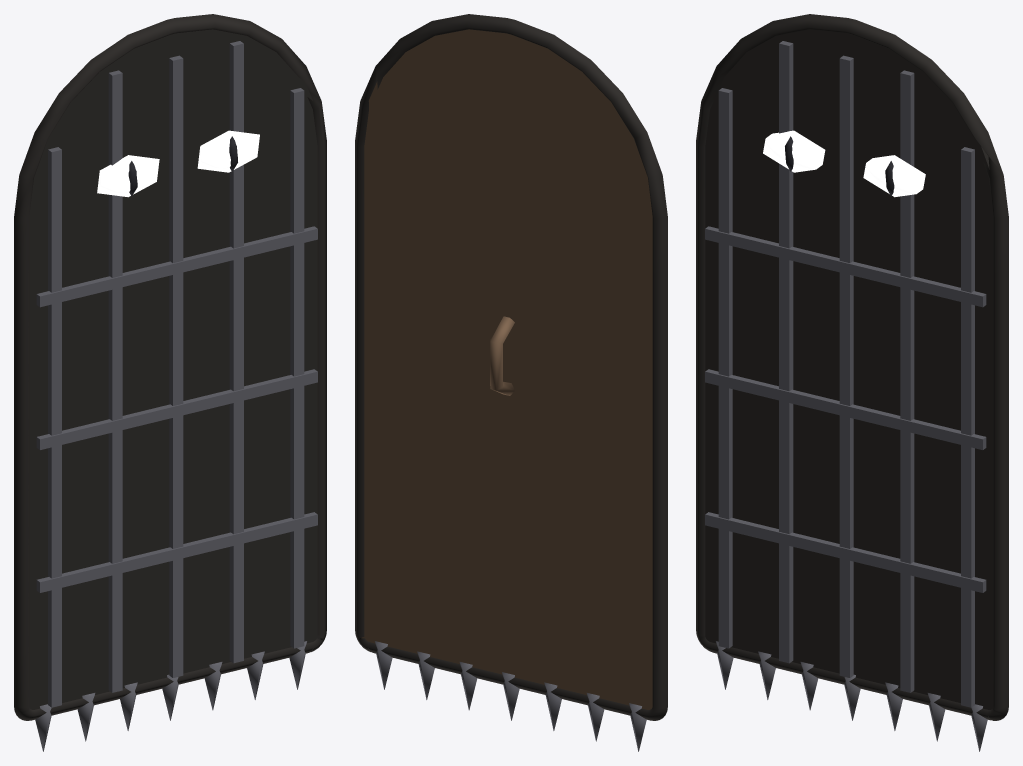
The model's file is shield-night-gate.glb.
The picture shows the model from 3 angles, left to right: view 1: azimuth 30°, elevation 25°; view 2: azimuth 150°, elevation 25°; view 3: azimuth 330°, elevation 25°; orthographic projection.
Visible parts, largest first — view 1: shield-night-gate; view 2: shield-night-gate; view 3: shield-night-gate.
Part boxes in pixels (bbox=[...]): shield-night-gate: bbox=[14, 14, 326, 751]; shield-night-gate: bbox=[355, 14, 667, 751]; shield-night-gate: bbox=[696, 14, 1008, 751].
Bounding box in the file's own units: 1.06 × 2.27 × 0.1893.
